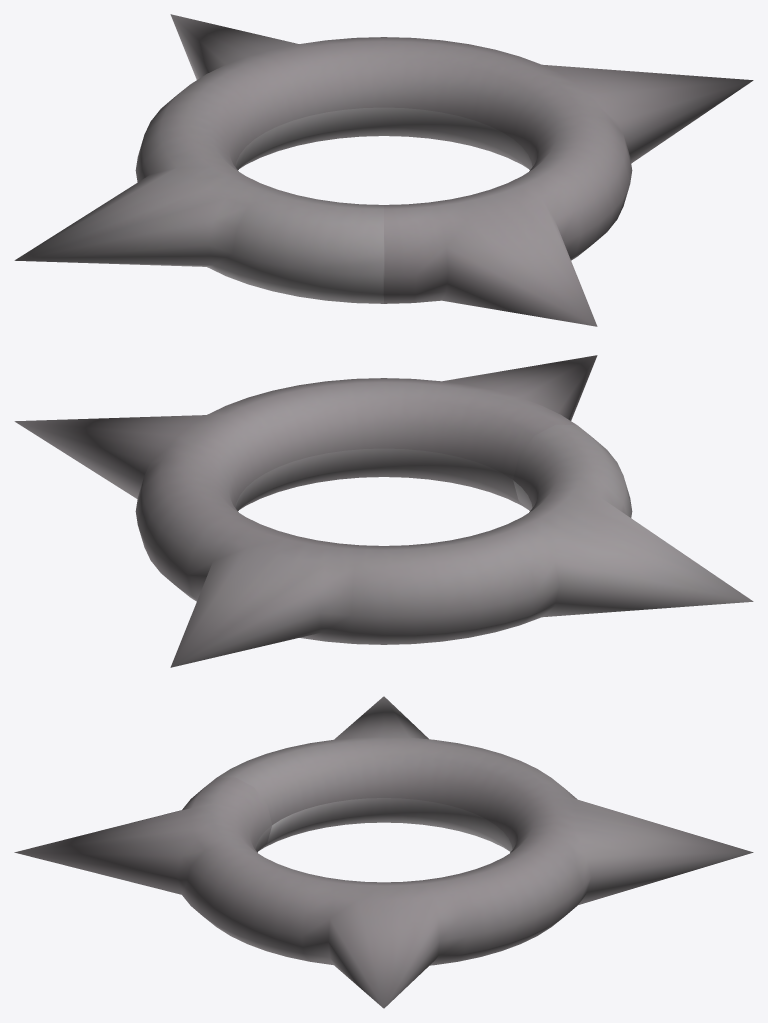
Rendered from RazorBlade.fbx.
The picture shows the model from 3 angles, top to bottom: view 1: azimuth 30°, elevation 25°; view 2: azimuth 150°, elevation 25°; view 3: azimuth 270°, elevation 25°; orthographic projection. The views are drawn at different scales.
Visible parts, largest first — view 1: RazorBlade; view 2: RazorBlade; view 3: RazorBlade.
Part boxes in pixels (x1,y1,x2,y2): RazorBlade: (14, 14, 753, 326); RazorBlade: (14, 355, 753, 667); RazorBlade: (14, 696, 753, 1008).
Size of the model in its own units: 229 by 26.66 by 229.
